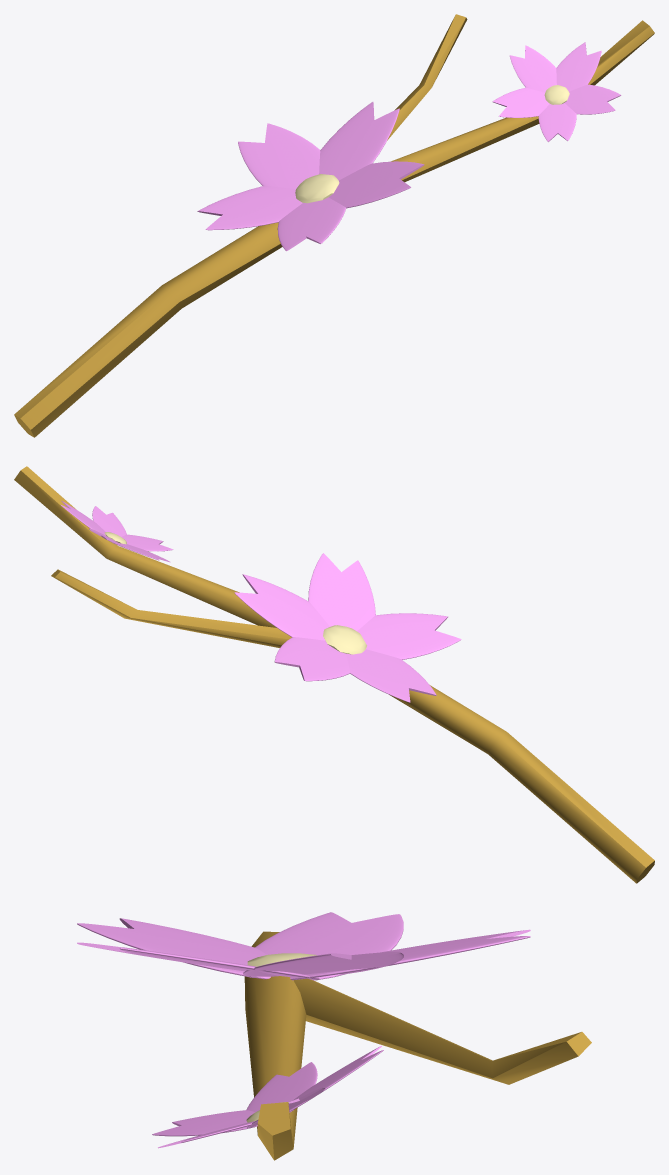
File: MilkyShadbush.fbx
3 views of the same model, one above another, from view 1: azimuth 30°, elevation 25°; view 2: azimuth 150°, elevation 25°; view 3: azimuth 270°, elevation 25° (orthographic). The views are drawn at different scales.
Parts seen in each view (by area): view 1: Platonic_2; view 2: Platonic_2; view 3: Platonic_2.
Part boxes in pixels (x1=…): Platonic_2: x1=14, y1=14, x2=654, y2=437; Platonic_2: x1=14, y1=466, x2=654, y2=883; Platonic_2: x1=77, y1=912, x2=591, y2=1160.
Size of the model in its own units: 764 by 303 by 268.
Materials: 1 (1 with a texture image).
